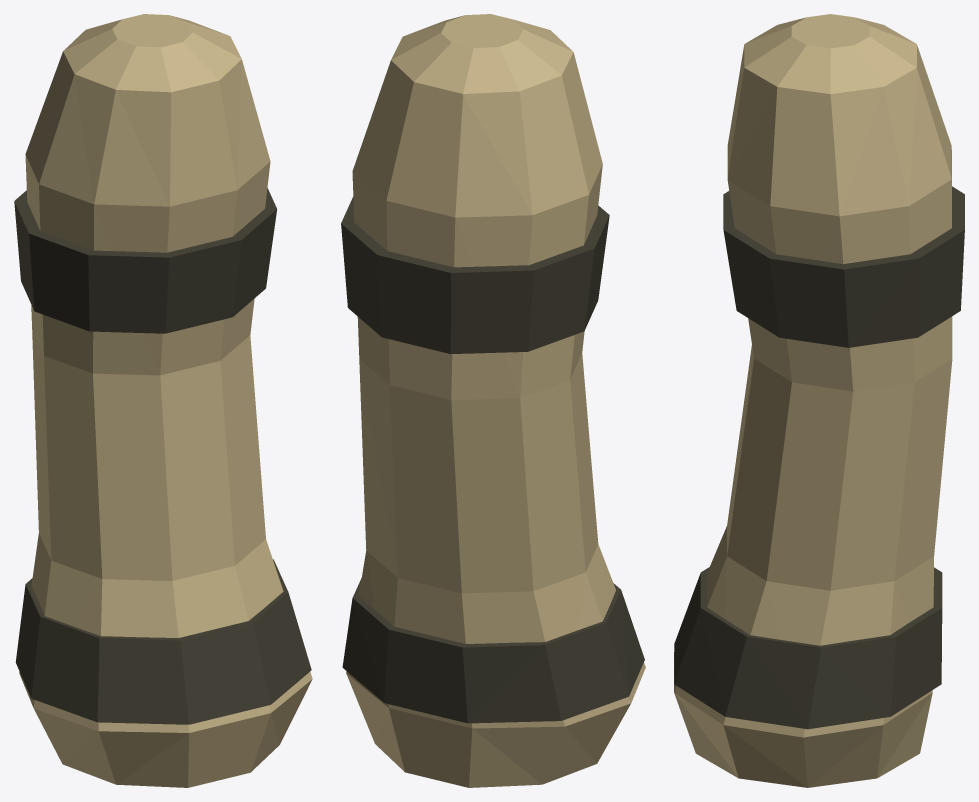
Rendered from fungus_darktorch.obj.
3 views of the same model, side by side, from view 1: azimuth 30°, elevation 25°; view 2: azimuth 150°, elevation 25°; view 3: azimuth 270°, elevation 25° (orthographic). The views are drawn at different scales.
Parts seen in each view (by area): view 1: fungus_darktorch; view 2: fungus_darktorch; view 3: fungus_darktorch.
Boxes of the visible parts, box(x1,y1,x2,y2) form: fungus_darktorch: box(14, 14, 312, 787); fungus_darktorch: box(341, 14, 645, 787); fungus_darktorch: box(674, 14, 964, 787).
Size of the model in its own units: 0.34 by 0.86 by 0.3208.
